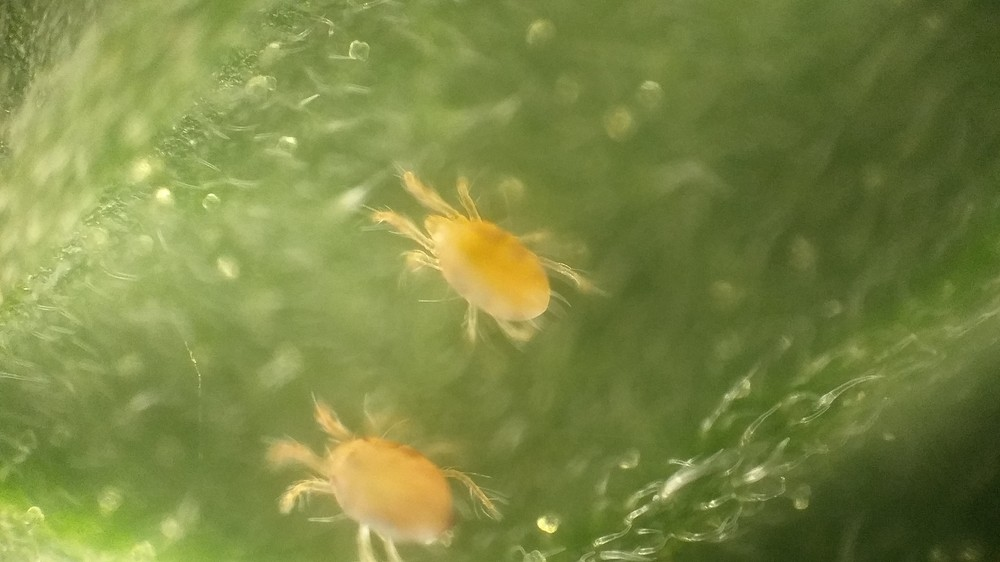Aracnido Rojo: (357, 166, 602, 357), (261, 390, 511, 562)
